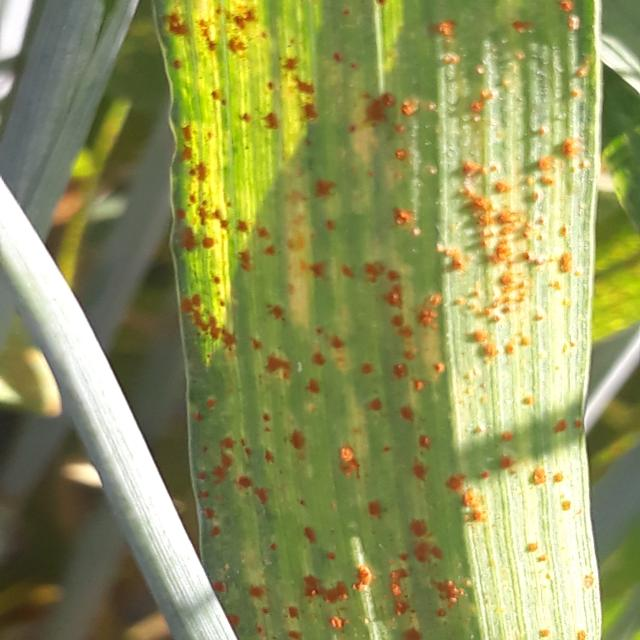orang_rust: (139, 0, 611, 640)
